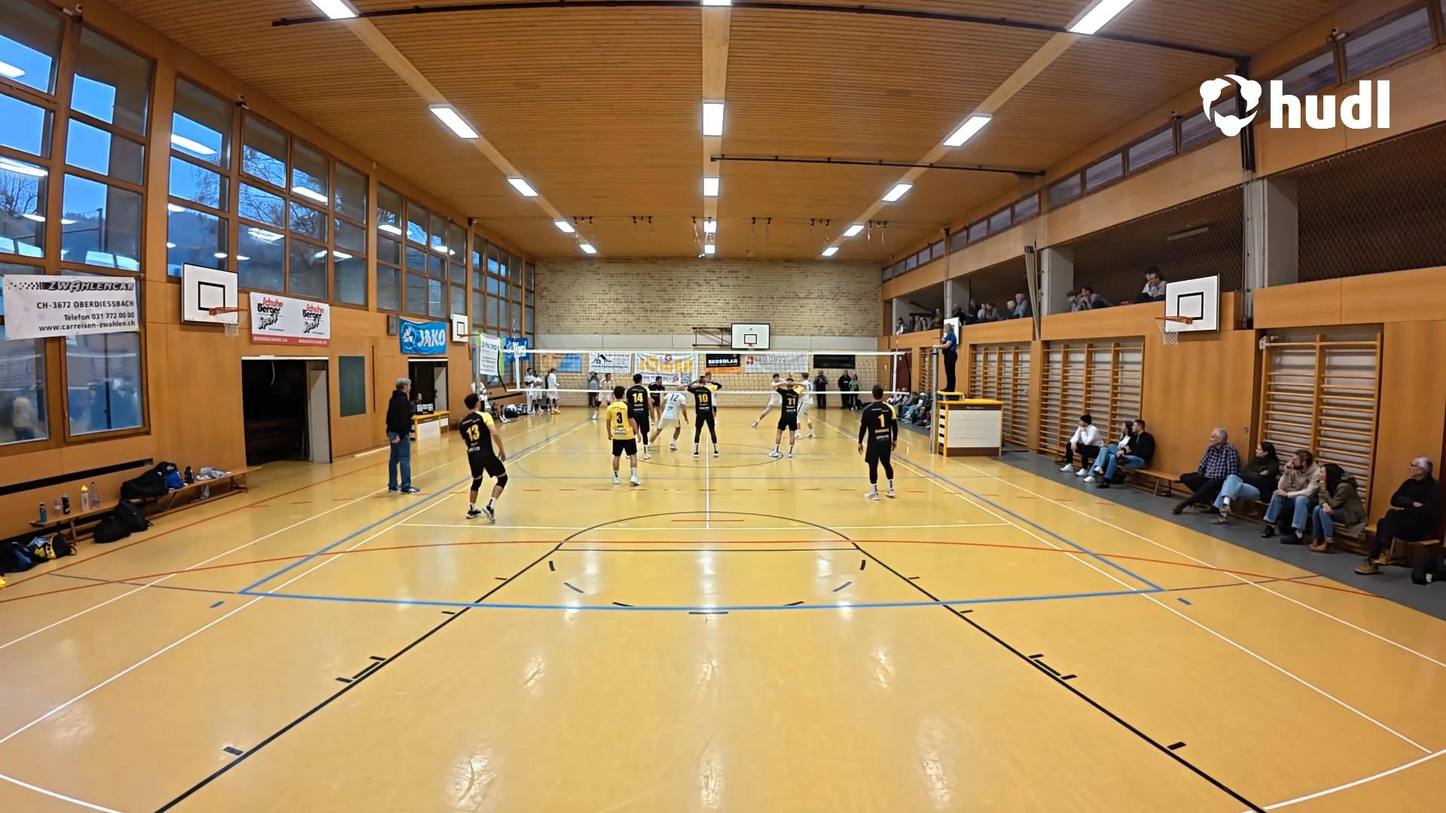Player: (442, 389, 511, 518), (857, 387, 898, 500), (607, 382, 644, 487), (685, 374, 721, 458), (770, 375, 806, 458), (650, 379, 690, 451), (629, 374, 654, 452), (791, 371, 818, 438), (592, 373, 611, 428), (648, 374, 666, 427)
Receive: (752, 366, 784, 431)
